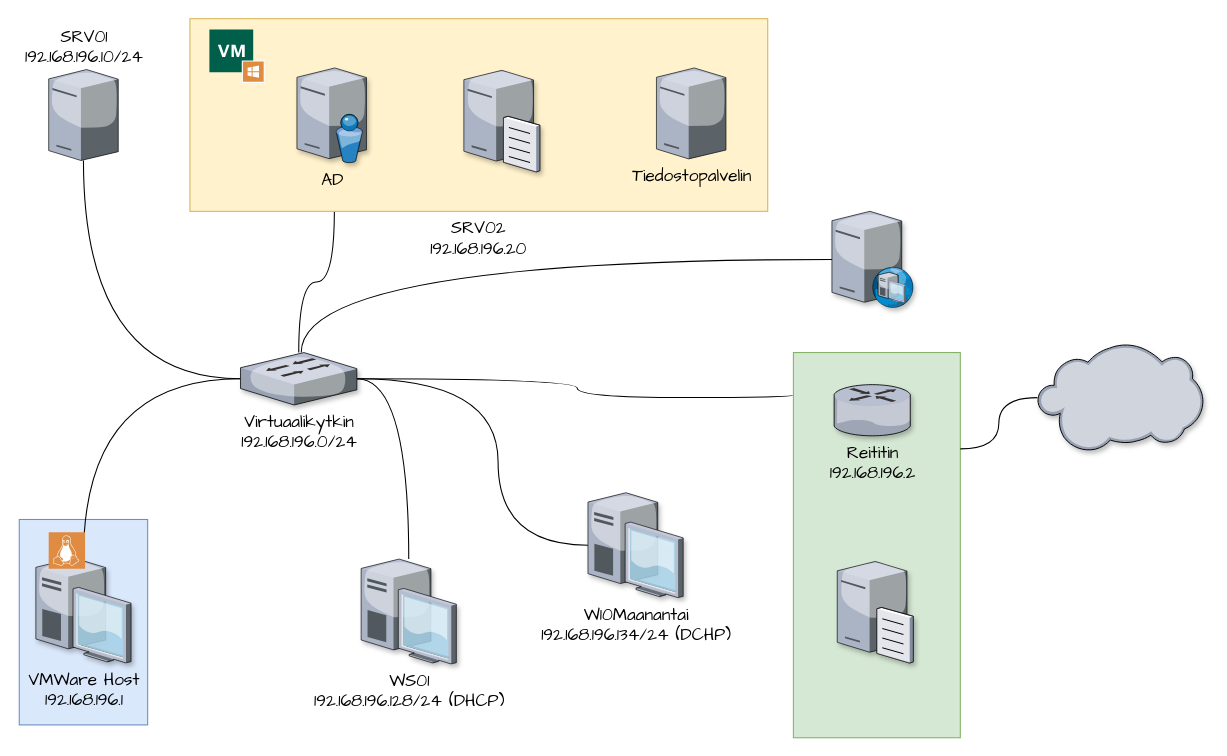
The diagram is 1227 pixels wide and 756 high, and some of its shapes have lost their labels. The centre of each missing label's shape, as x and y in pixels:
"DNS" belongs at [502,121].
"Internet" belongs at [1121,399].
"VMWare DHCP 192.168.196.254" belongs at [873,261].
"VMWare DNS 192.168.196.2" belongs at [875,612].
